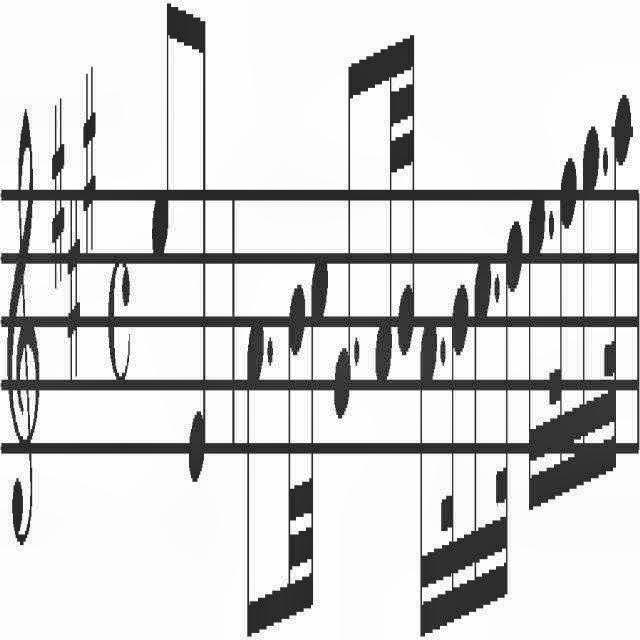Bass-clef: (5, 84, 42, 580)
Diez: (80, 53, 104, 267), (48, 75, 68, 302), (63, 182, 83, 386)
Eighth-note: (184, 18, 214, 482), (146, 0, 178, 272), (242, 284, 266, 640), (332, 31, 352, 429)
Sixteenth-note: (578, 107, 602, 485), (416, 284, 440, 640), (526, 144, 546, 544), (474, 246, 494, 616)
